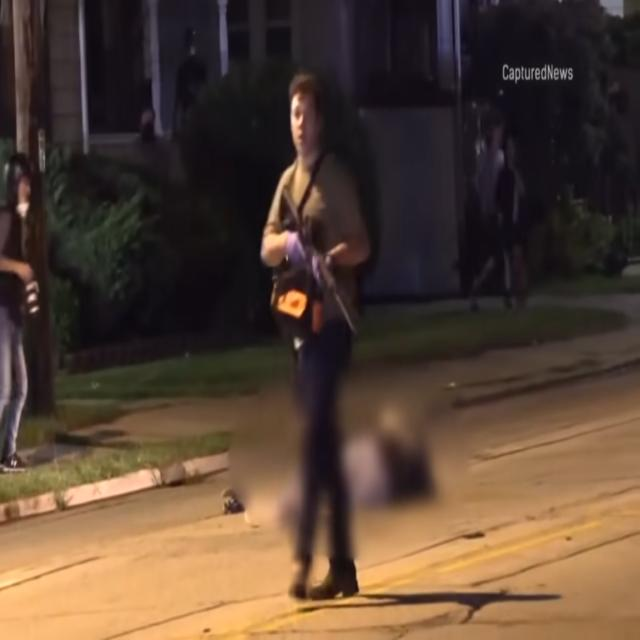Rifle: (276, 181, 359, 347)
